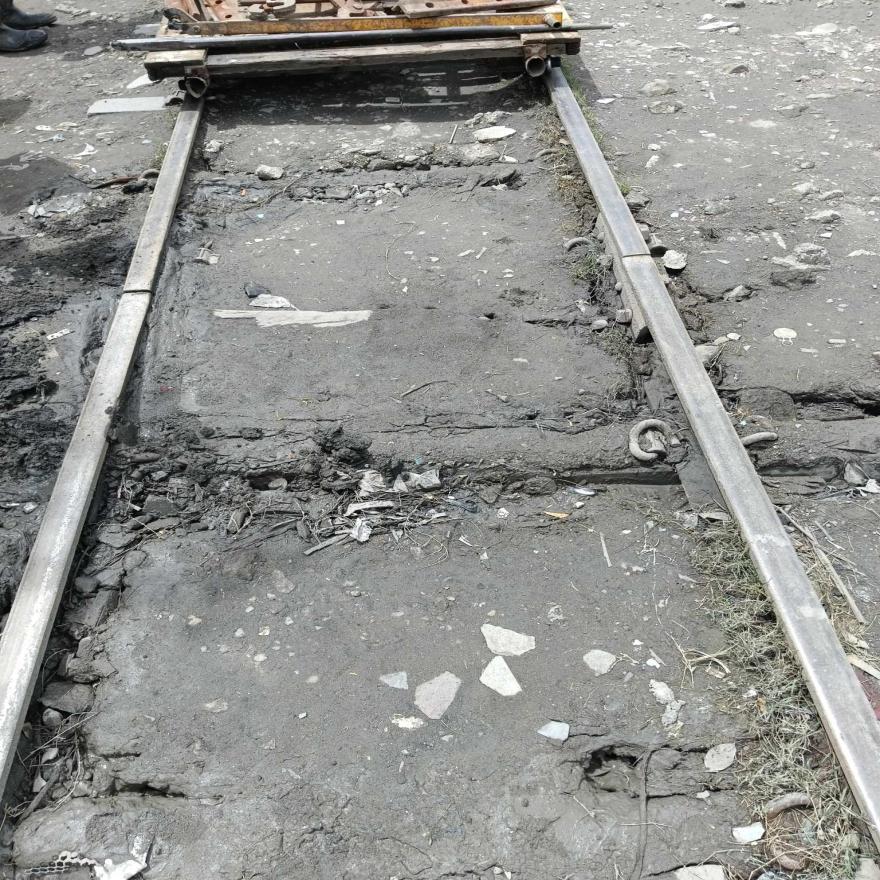railway-gap: (89, 250, 183, 325), (593, 229, 676, 284)
